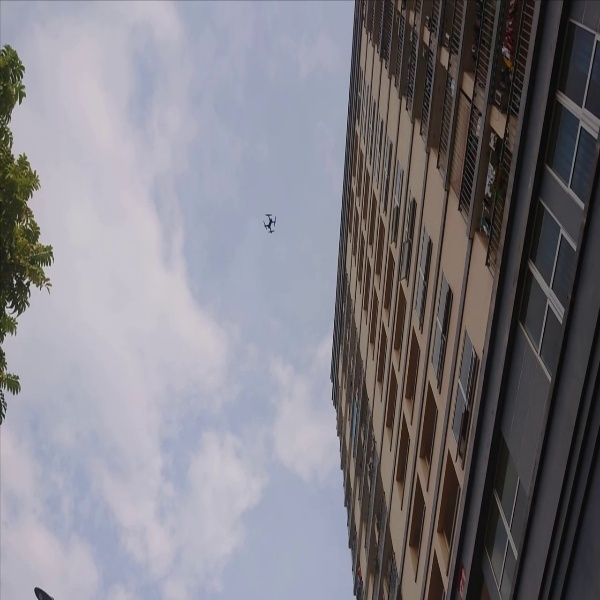drone: (257, 204, 281, 241)
